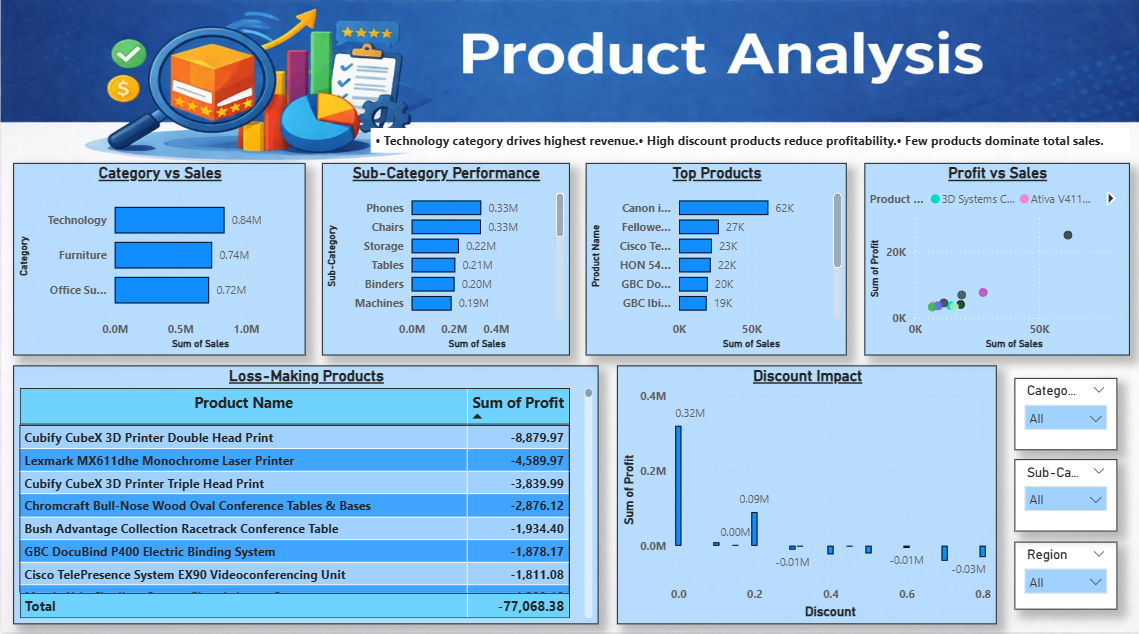

Layout of this report page (visuals, bound fields, positions):
{"tool":"powerbi","page":{"name":"Product Analysis","canvas":[1280,720],"ordinal":2},"visuals":[{"type":"barChart","title":"Category vs Sales","fields":{"Y":["Sum(Table1.Sales)"],"Category":["Table1.Category"]},"box":[28.8,192.1,321.1,211.3],"z":0},{"type":"barChart","title":"Sub-Category Performance","fields":{"Y":["Sum(Table1.Sales)"],"Category":["Table1.Sub-Category"]},"box":[367.8,192.1,271.7,211.3],"z":1000},{"type":"tableEx","title":"Loss-Making Products","fields":{"Values":["Table1.Product Name","Sum(Table1.Profit)"]},"box":[28.8,414.4,642.2,284],"z":2000},{"type":"barChart","title":"Top Products","fields":{"Category":["Table1.Product Name"],"Y":["Sum(Table1.Sales)"]},"box":[657.3,192.1,286.8,211.3],"z":3000},{"type":"scatterChart","title":"Profit vs Sales","fields":{"X":["Sum(Table1.Sales)"],"Y":["Sum(Table1.Profit)"],"Category":["Table1.Product Name"],"Series":["Table1.Product Name"]},"box":[963.3,192.1,290.9,211.3],"z":4000},{"type":"columnChart","title":"Discount Impact","fields":{"Y":["Sum(Table1.Profit)"],"Category":["Table1.Discount"]},"box":[691.6,414.4,417.2,284],"z":5000},{"type":"slicer","fields":{"Values":["Table1.Category"]},"box":[1128,428.1,112.5,79.6],"z":6000},{"type":"slicer","fields":{"Values":["Table1.Region"]},"box":[1128,607.9,112.5,74.1],"z":7000},{"type":"slicer","fields":{"Values":["Table1.Sub-Category"]},"box":[1128,517.3,112.5,79.6],"z":8000},{"type":"textbox","box":[421.3,153.7,832.9,27.4],"z":9000}]}

Visuals, with their boxes in screenshot pixels (x1, y1, x2, y2), scaled from the page's 1280x720 canvas onto the 1139x634 screenshot:
"Category vs Sales" barChart: region(26, 169, 311, 355)
"Sub-Category Performance" barChart: region(327, 169, 569, 355)
"Loss-Making Products" tableEx: region(26, 365, 597, 615)
"Top Products" barChart: region(585, 169, 840, 355)
"Profit vs Sales" scatterChart: region(857, 169, 1116, 355)
"Discount Impact" columnChart: region(615, 365, 987, 615)
slicer - Table1.Category: region(1004, 377, 1104, 447)
slicer - Table1.Region: region(1004, 535, 1104, 601)
slicer - Table1.Sub-Category: region(1004, 456, 1104, 526)
textbox: region(375, 135, 1116, 159)
